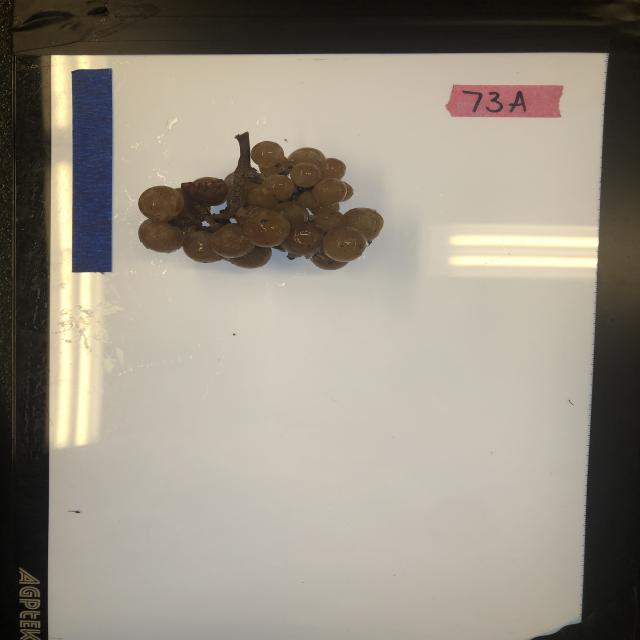grape_cluster: (138, 130, 386, 272)
index: (447, 83, 566, 118)
measure_label: (69, 67, 113, 274)
